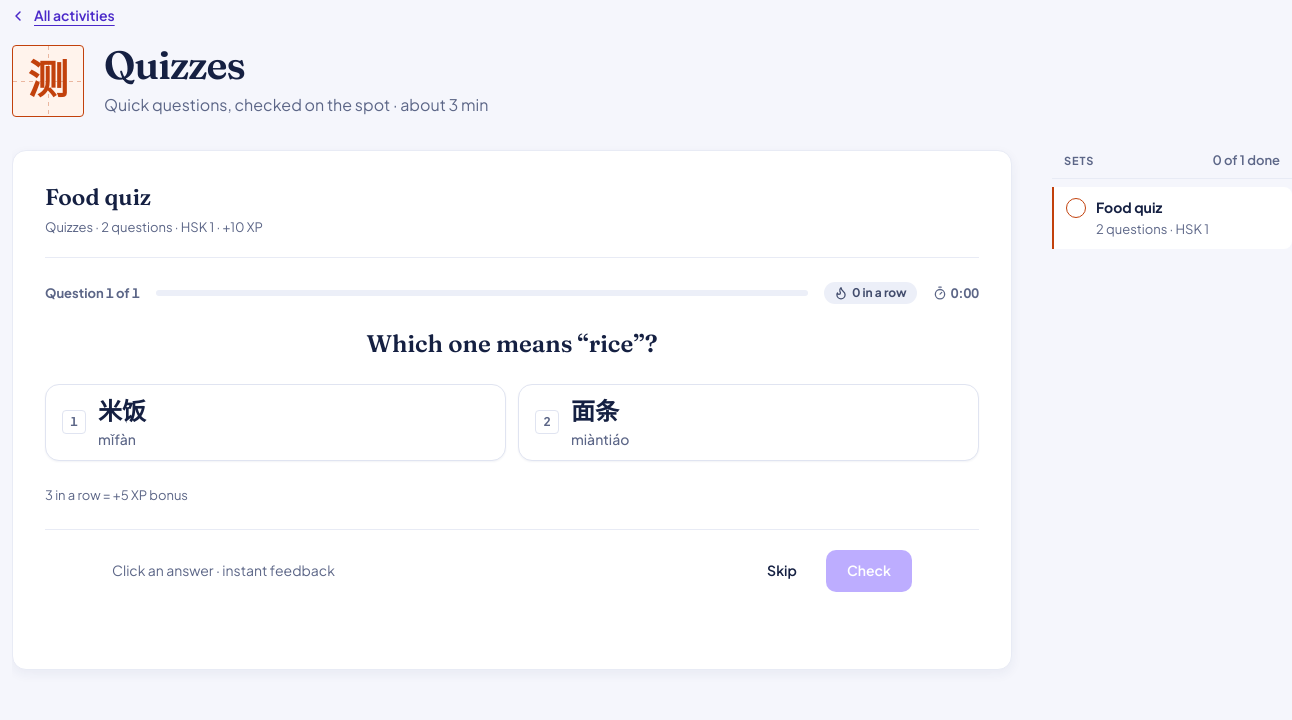
Test: StudentPracticePage › checks each quiz answer instantly and counts answers in a row
This screenshot has width=1292, height=720.
Expected: the element with test id "in-a-row" reads "0 in a row", 852,285 -> 907,300
Click the button with test id "option-0" at (122, 412), box 45,384 -> 506,461
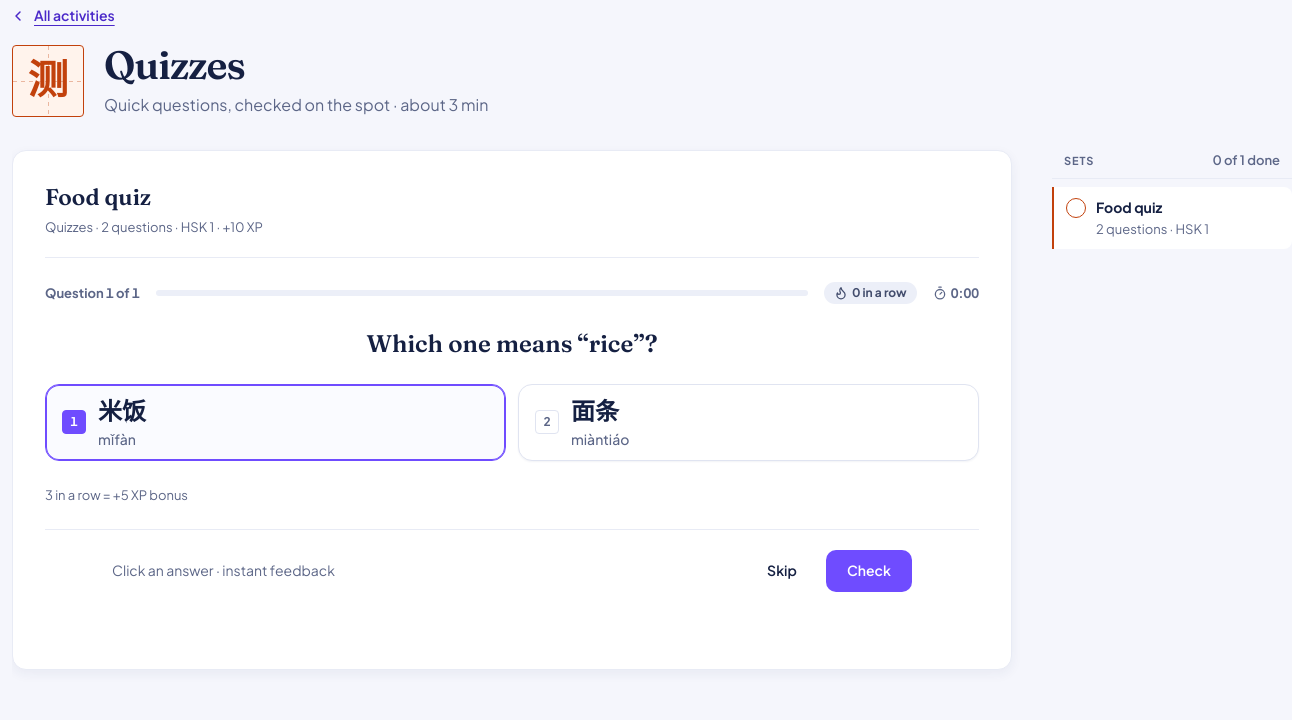
Click the button with test id "check" at (869, 571), box 826,550 -> 912,592
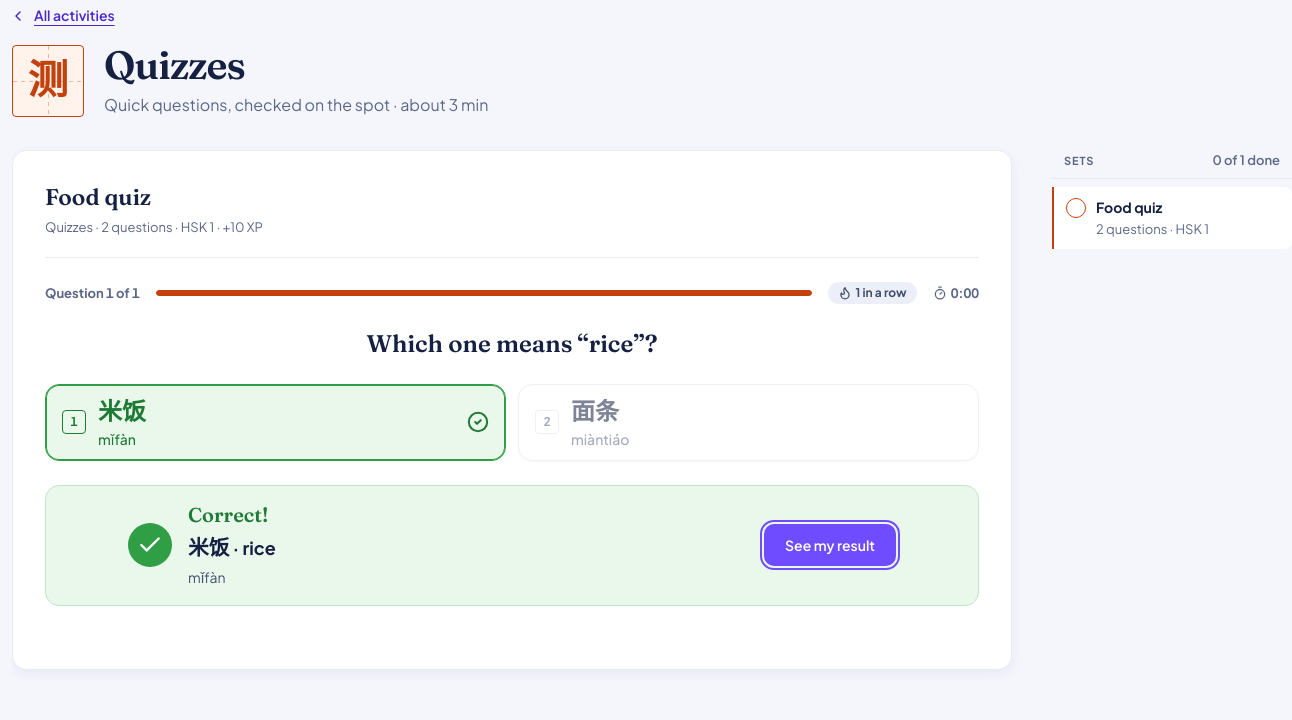
Now the element with test id "check-bar" shows "Correct!", box 188,502 -> 268,527
Now the element with test id "check-bar" shows "mǐfàn", box 188,568 -> 225,586
Now the element with test id "in-a-row" reads "1 in a row", box 856,285 -> 907,300
